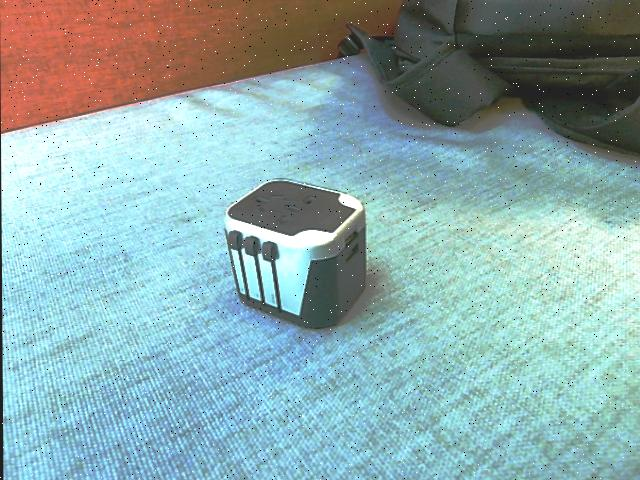adapter: (223, 179, 366, 329)
